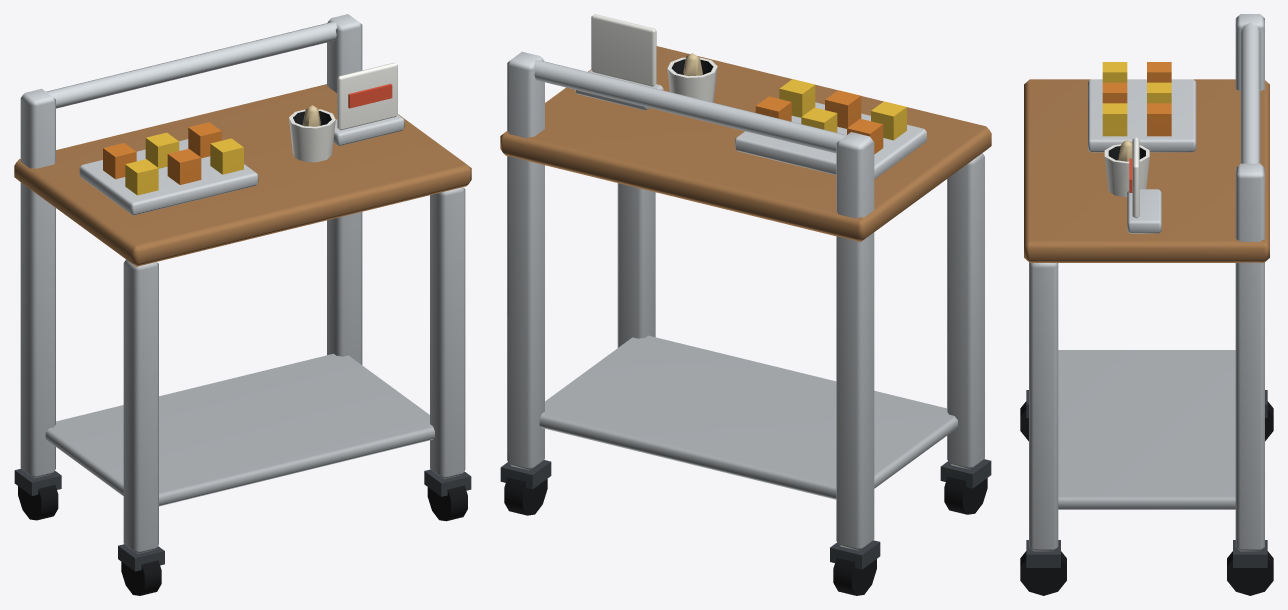
Rendered from SampleCart_01.glb.
3 views of the same model, side by side, from view 1: azimuth 30°, elevation 25°; view 2: azimuth 150°, elevation 25°; view 3: azimuth 270°, elevation 25° (orthographic). The views are drawn at different scales.
Visible parts, largest first — view 1: SM_SampleCart_01; view 2: SM_SampleCart_01; view 3: SM_SampleCart_01.
Boxes of the visible parts, <box> form: SM_SampleCart_01: <box>14,14,471,595</box>; SM_SampleCart_01: <box>500,14,991,595</box>; SM_SampleCart_01: <box>1020,14,1273,595</box>.
Size of the model in its own units: 0.8 by 0.95 by 0.5151.
Materials: 1 (1 with a texture image).
